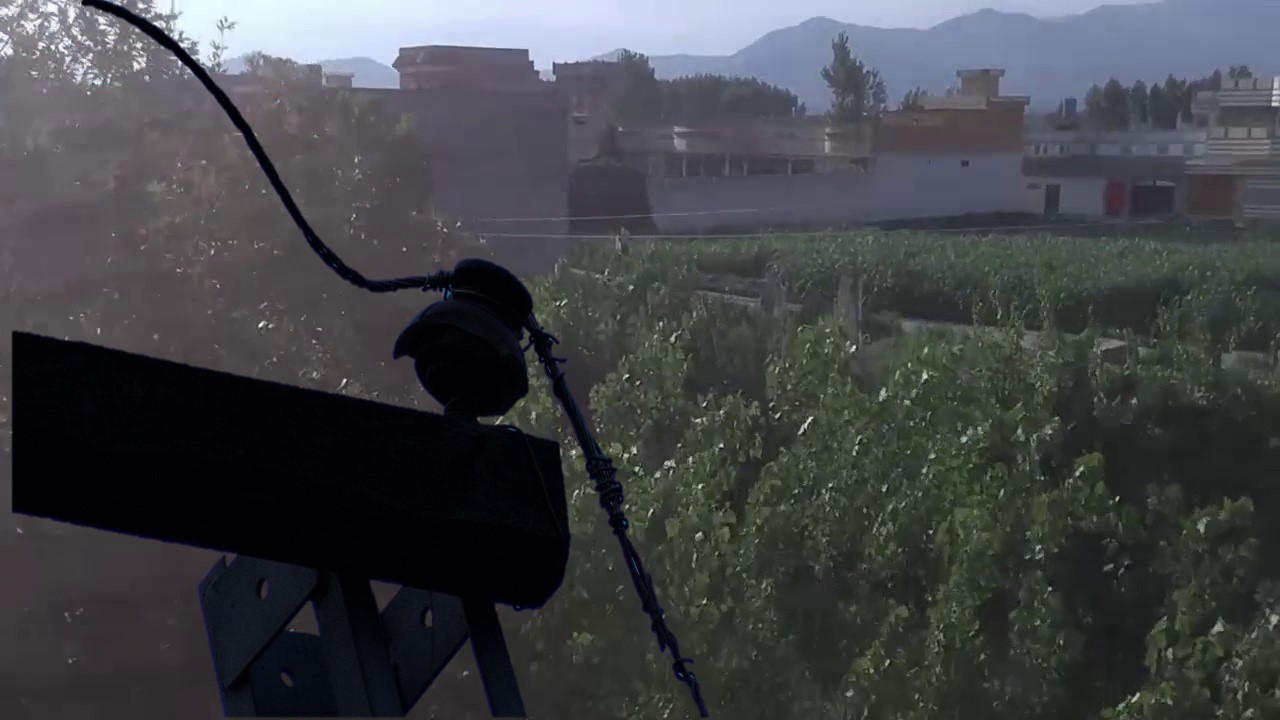defect_pin: (392, 253, 544, 430)
